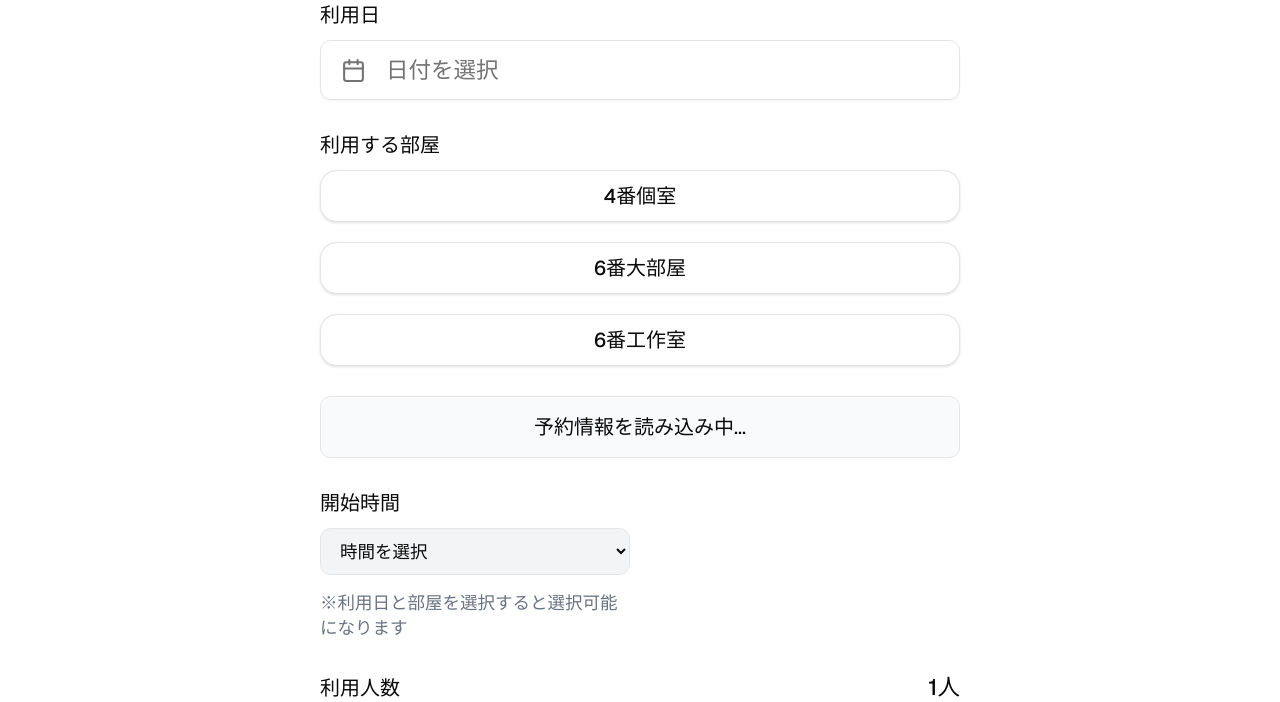
Test case: ReservationForm › 日付を選択するとカレンダーが表示される
// 日付選択ボタンをクリック
Click the button "日付を選択".
click(442, 70)  # box [320,40,960,100]
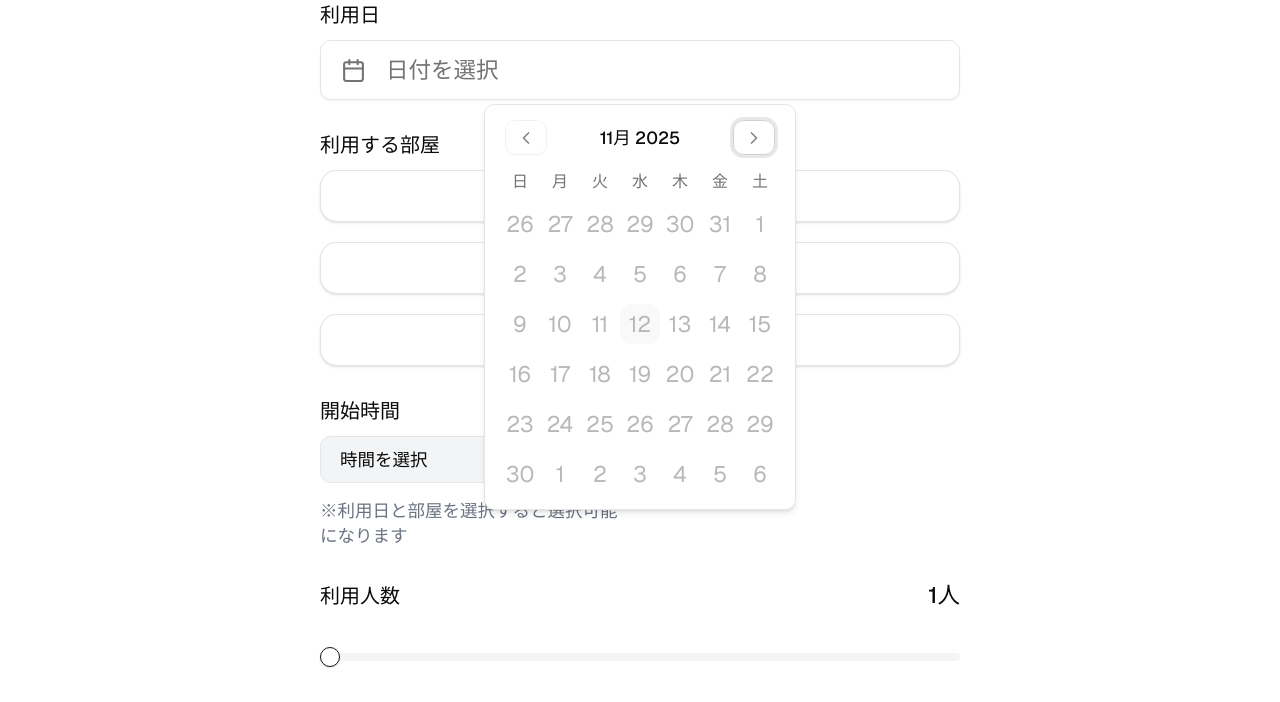
Now the dialog is shown, box [484,104,796,510]
